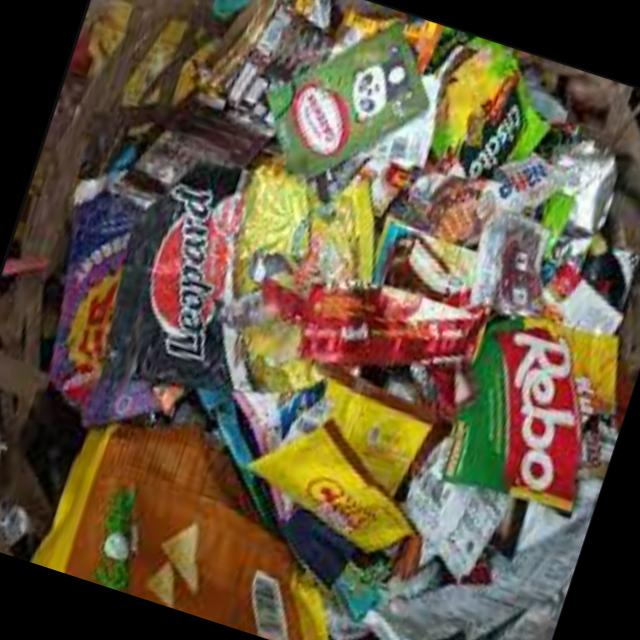KemasanPlastik: (34, 396, 386, 640), (413, 265, 640, 532), (92, 133, 306, 408), (233, 328, 460, 566), (239, 0, 442, 202), (412, 30, 562, 192)
